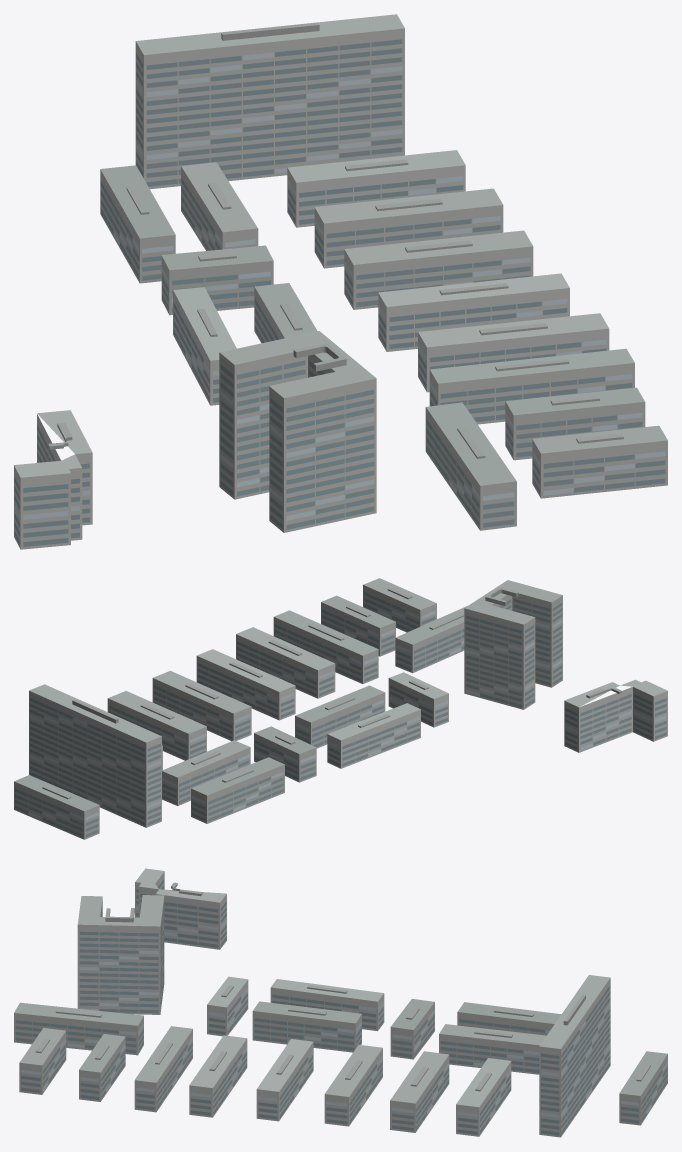
Rendered from apt-a14086101.glb.
3 views of the same model, one above another, from view 1: azimuth 30°, elevation 25°; view 2: azimuth 150°, elevation 25°; view 3: azimuth 270°, elevation 25° (orthographic). The views are drawn at different scales.
Parts seen in each view (by area): view 1: apt-a14086101; view 2: apt-a14086101; view 3: apt-a14086101.
Boxes of the visible parts, x1,y1,x2,y2 form: apt-a14086101: (14, 14, 667, 549); apt-a14086101: (14, 578, 667, 839); apt-a14086101: (14, 868, 667, 1137).
Size of the model in its own units: 246 by 47.81 by 307.
